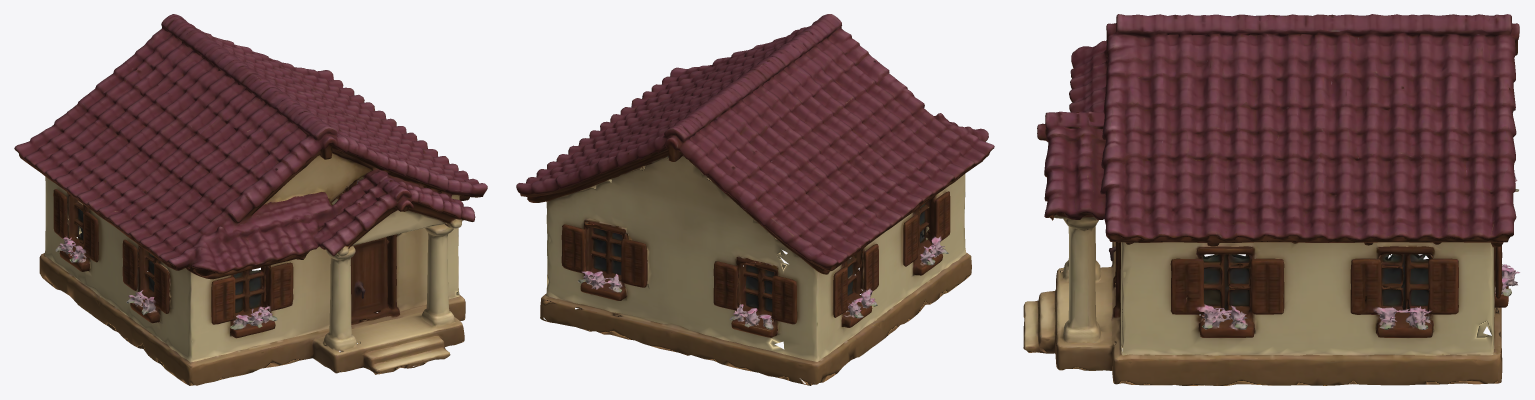
The model's file is house.glb.
3 renders of one model, left to right at view 1: azimuth 30°, elevation 25°; view 2: azimuth 150°, elevation 25°; view 3: azimuth 270°, elevation 25°, orthographic. The views are drawn at different scales.
Size of the model in its own units: 0.9095 by 0.6202 by 0.9762.
Materials: 1 (1 with a texture image).
